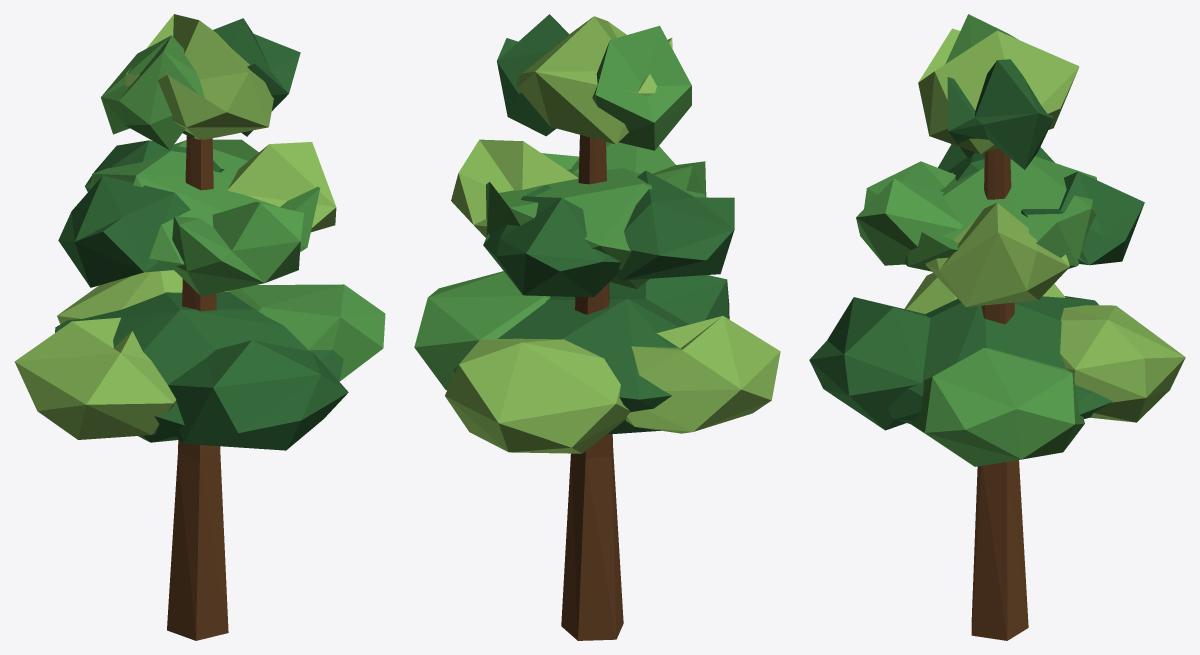
The picture shows the model from 3 angles, left to right: view 1: azimuth 30°, elevation 25°; view 2: azimuth 150°, elevation 25°; view 3: azimuth 270°, elevation 25°; orthographic projection. The views are drawn at different scales.
Parts seen in each view (by area): view 1: WK_InnerKeepTree_PrunedOrnamental_ThreeTier_LOD1_Balanced; view 2: WK_InnerKeepTree_PrunedOrnamental_ThreeTier_LOD1_Balanced; view 3: WK_InnerKeepTree_PrunedOrnamental_ThreeTier_LOD1_Balanced.
Boxes of the visible parts, bbox=[...] form: WK_InnerKeepTree_PrunedOrnamental_ThreeTier_LOD1_Balanced: bbox=[14, 14, 385, 640]; WK_InnerKeepTree_PrunedOrnamental_ThreeTier_LOD1_Balanced: bbox=[414, 14, 780, 640]; WK_InnerKeepTree_PrunedOrnamental_ThreeTier_LOD1_Balanced: bbox=[809, 14, 1185, 640].
Size of the model in its own units: 2.75 by 4.7 by 2.69.
